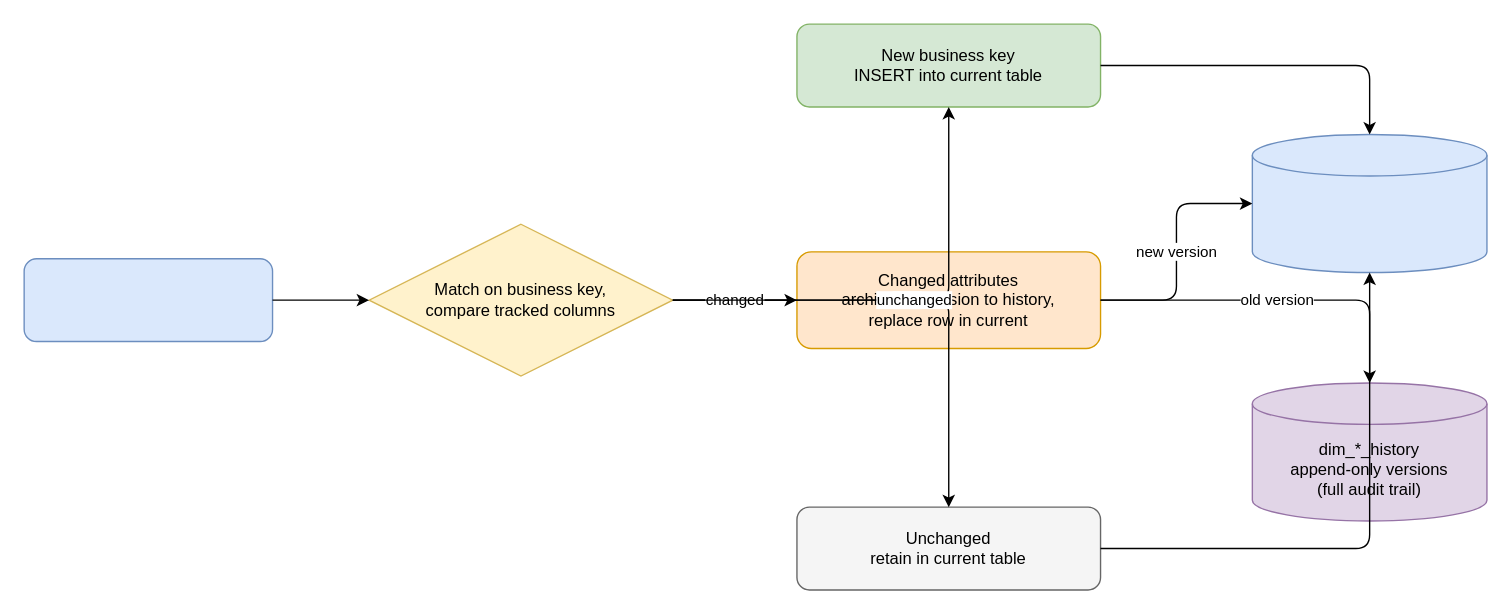
This 1511x614 diagram has some shape labels left out. The centre of each missing label's shape, as x and y in pixels:
dim_*_current one row per key (fast serving layer): point 1369,203
Transformed Data (daily batch): point 148,299
